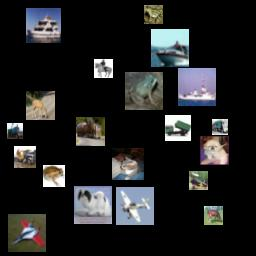airplane: (8, 214, 46, 252), (116, 187, 154, 225), (189, 171, 208, 190)
cat: (112, 148, 144, 180)
deer: (26, 91, 55, 120)
dog: (74, 186, 112, 224), (200, 136, 229, 165)
frog: (125, 72, 163, 110), (43, 165, 65, 187), (144, 5, 163, 24)
ship: (178, 68, 216, 106), (151, 29, 189, 67), (26, 8, 61, 43)
truck: (76, 117, 105, 146), (165, 115, 191, 141), (14, 146, 36, 168), (212, 119, 228, 135), (7, 123, 23, 139)
